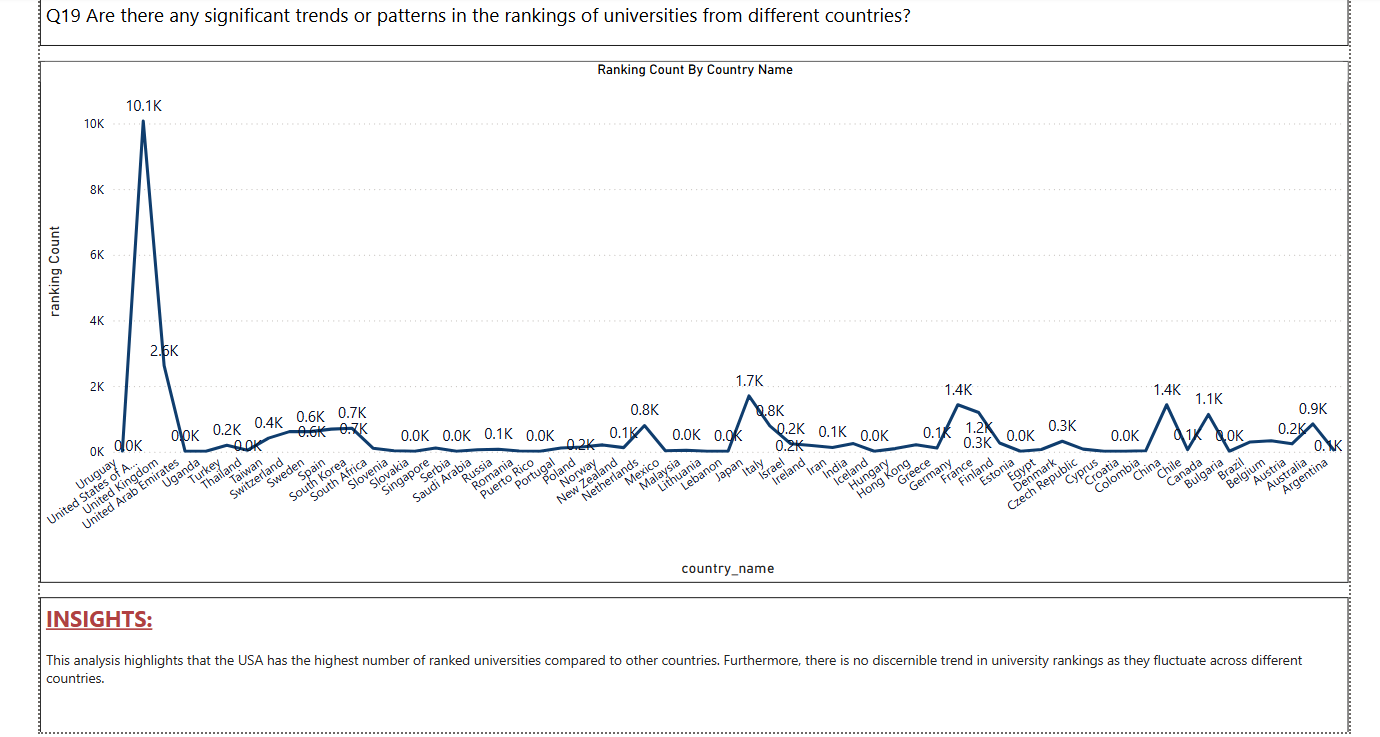

Layout of this report page (visuals, bound fields, positions):
{"tool":"powerbi","page":{"name":"Que 19","canvas":[1280,720],"ordinal":10},"visuals":[{"type":"textbox","box":[0,0,1280.2,48.8],"z":0},{"type":"lineChart","title":" Ranking Count By Country Name","fields":{"Category":["country.country_name"],"Y":["CountNonNull(university_ranking_year.ranking_criteria_id)"]},"box":[0,64,1280.2,510.5],"z":1000},{"type":"textbox","box":[0,587.8,1280,133.1],"z":2000}]}

Visuals, with their boxes on the page's 1280x720 design canvas (x1, y1, x2, y2). These are canvas units, not pixel positions in the 1380x737 screenshot, which may show the page scaled, cropped or inside an application window:
textbox: [x1=0, y1=0, x2=1280, y2=49]
" Ranking Count By Country Name" lineChart: [x1=0, y1=64, x2=1280, y2=574]
textbox: [x1=0, y1=588, x2=1280, y2=721]
